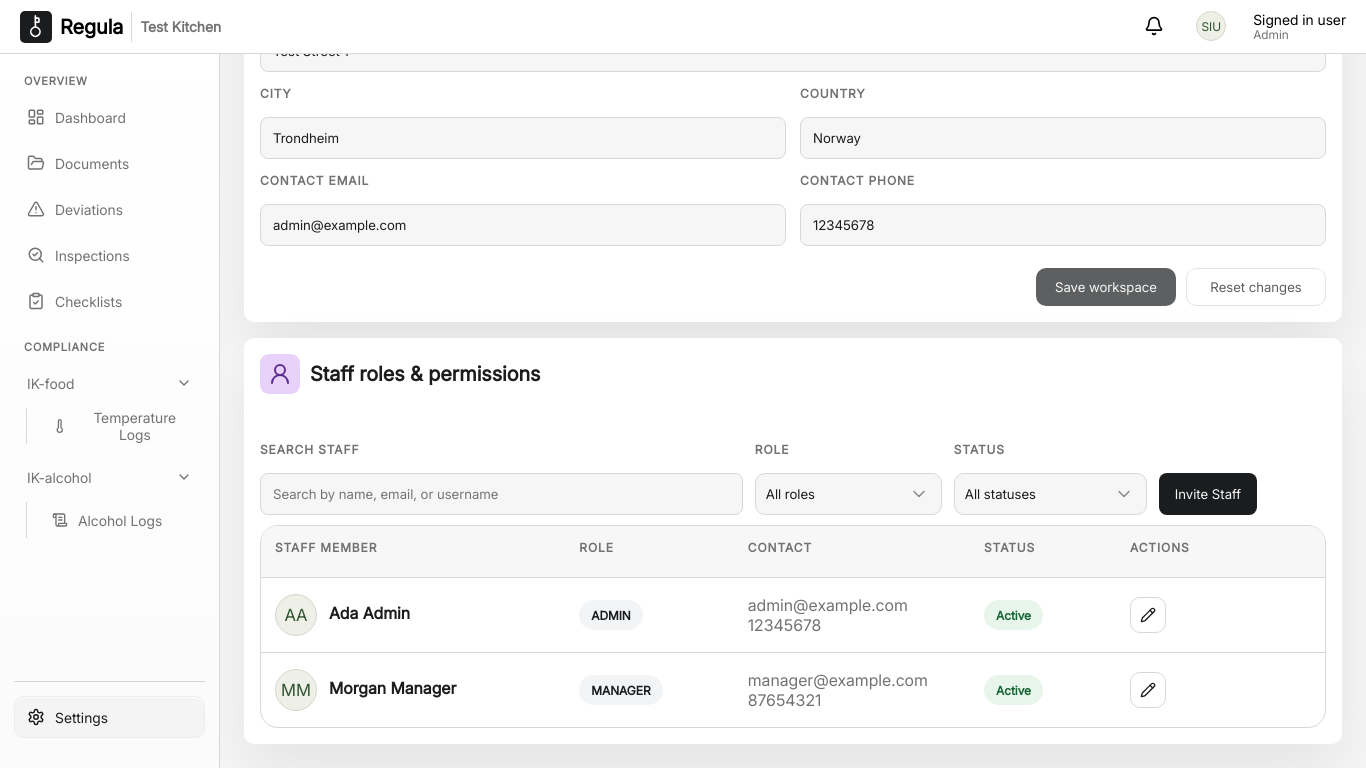
Test: Settings view › filters staff and updates a staff member from the editor
(page scrolled)
Type "Morgan" into the search field labelled "Search staff" at point(502, 494), box [260, 473, 743, 515]
(page scrolled)
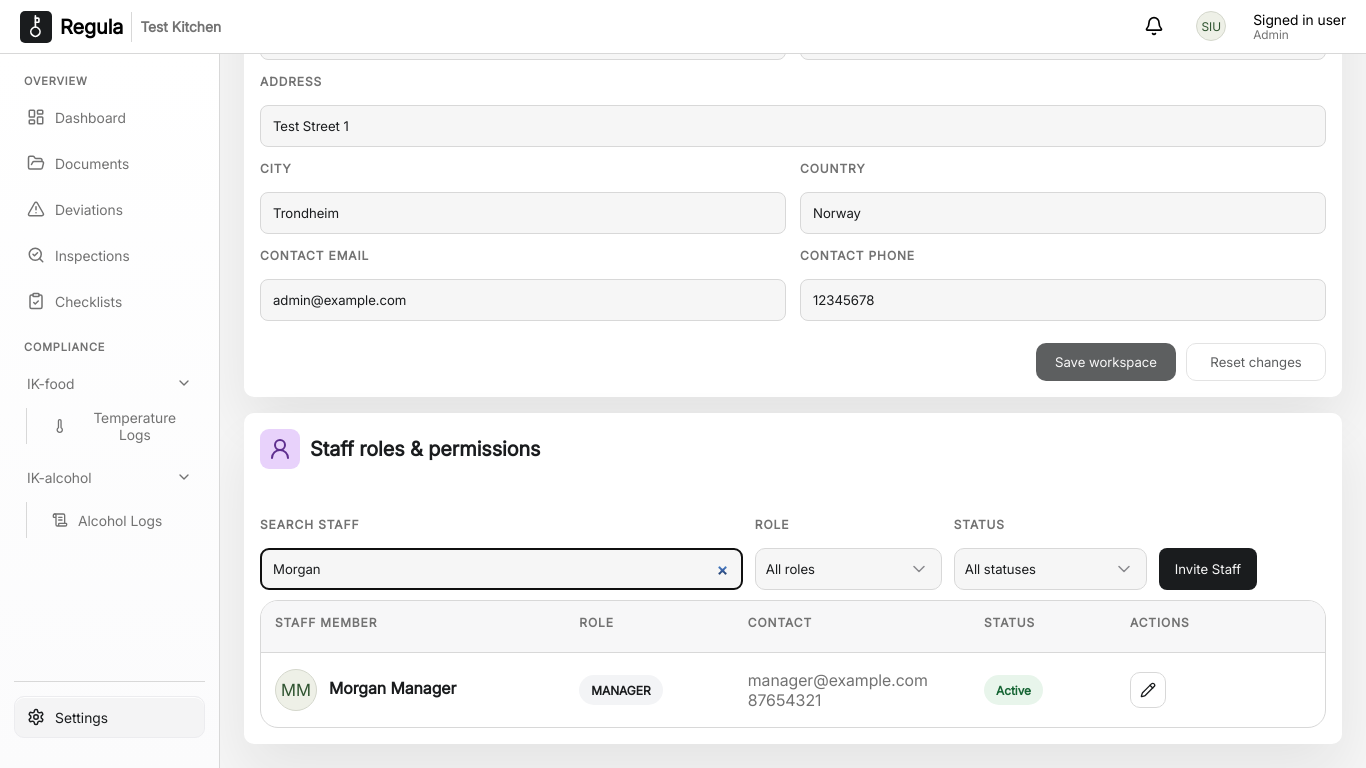
Check: the text "Morgan Manager" is shown, box [329, 678, 456, 698]
Check: the text "Ada Admin" is gone
Select "MANAGER" in the dropdown labelled "Role" at point(849, 569), box [755, 548, 942, 590]
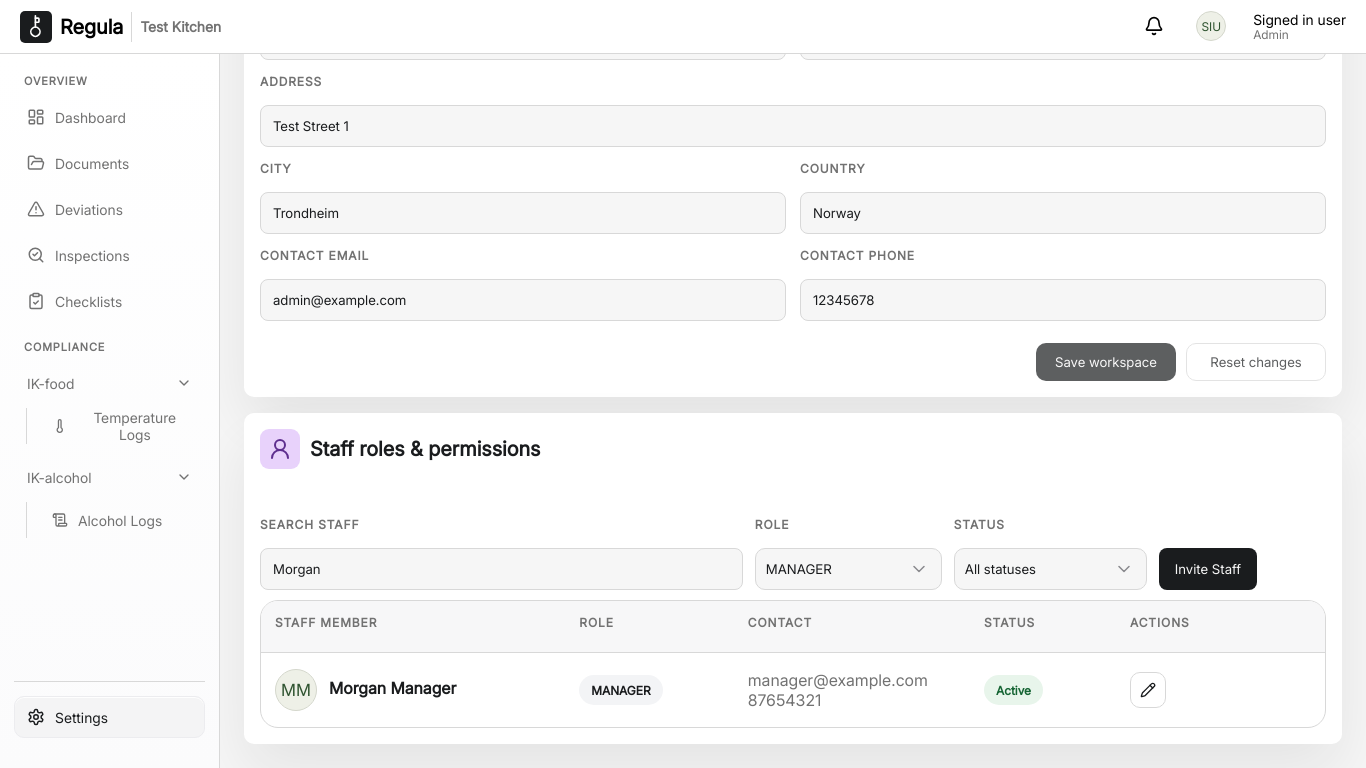
Check: the text "Morgan Manager" is shown, box [329, 678, 456, 698]
Click the button named "Edit staff member" at point(1148, 690), box [1130, 672, 1166, 708]
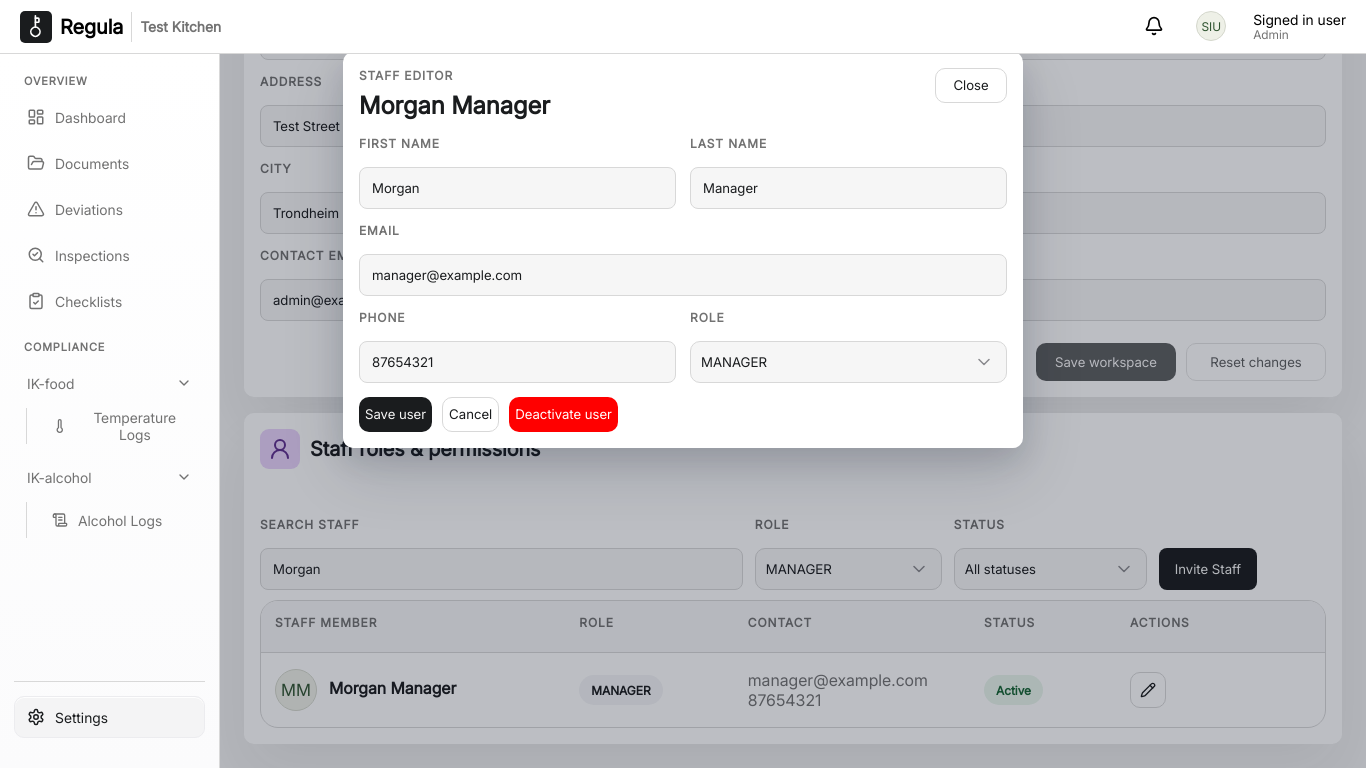
Check: the text "Morgan Manager" is shown, box [359, 91, 550, 120]
Replace the text in the field labelled "Phone" with "99999999" at point(518, 362), box [359, 341, 676, 383]
Select "ADMIN" in the dropdown labelled "Role" at point(849, 362), box [690, 341, 1007, 383]
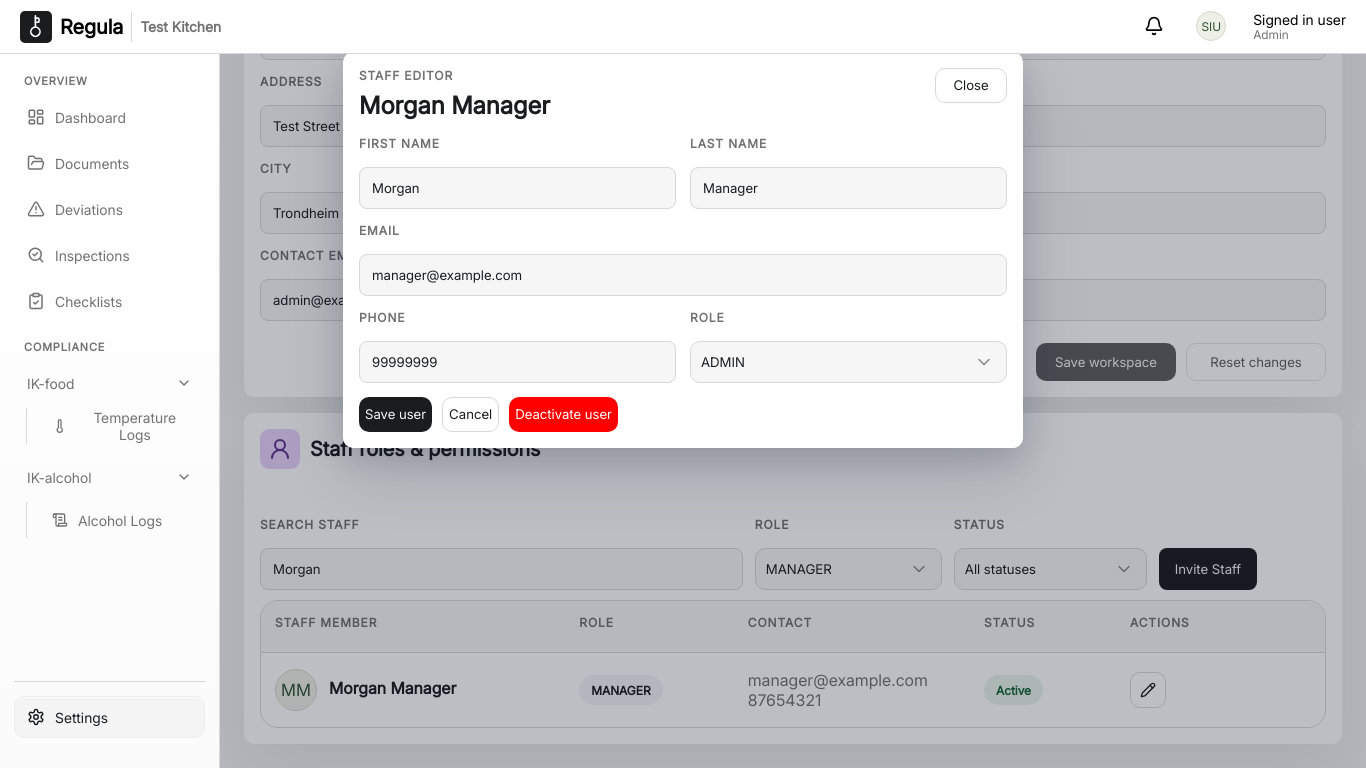
Click the button "Save user" at point(396, 415), box [359, 397, 432, 432]
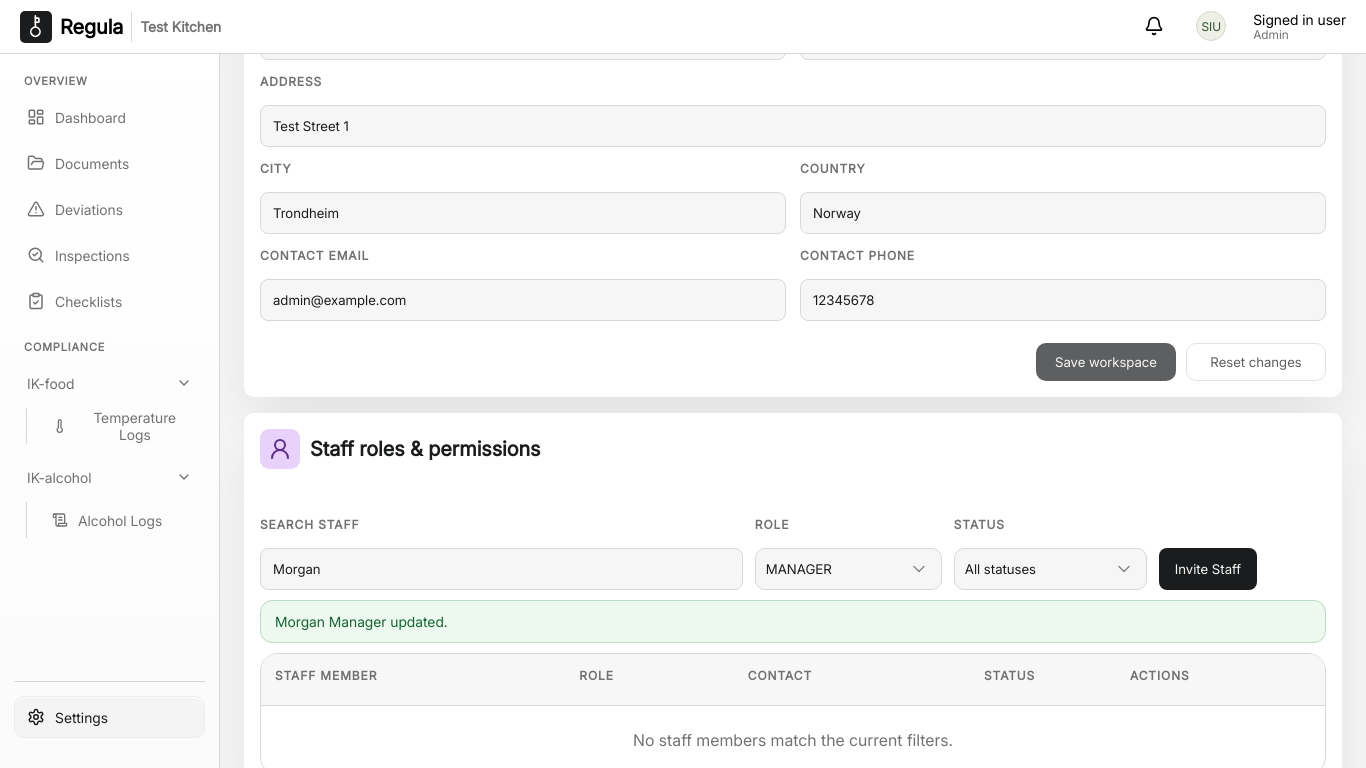
Check: the text "Morgan Manager updated." is shown, box [260, 600, 1326, 643]
Select "All roles" in the dropdown labelled "Role" at point(849, 569), box [755, 548, 942, 590]
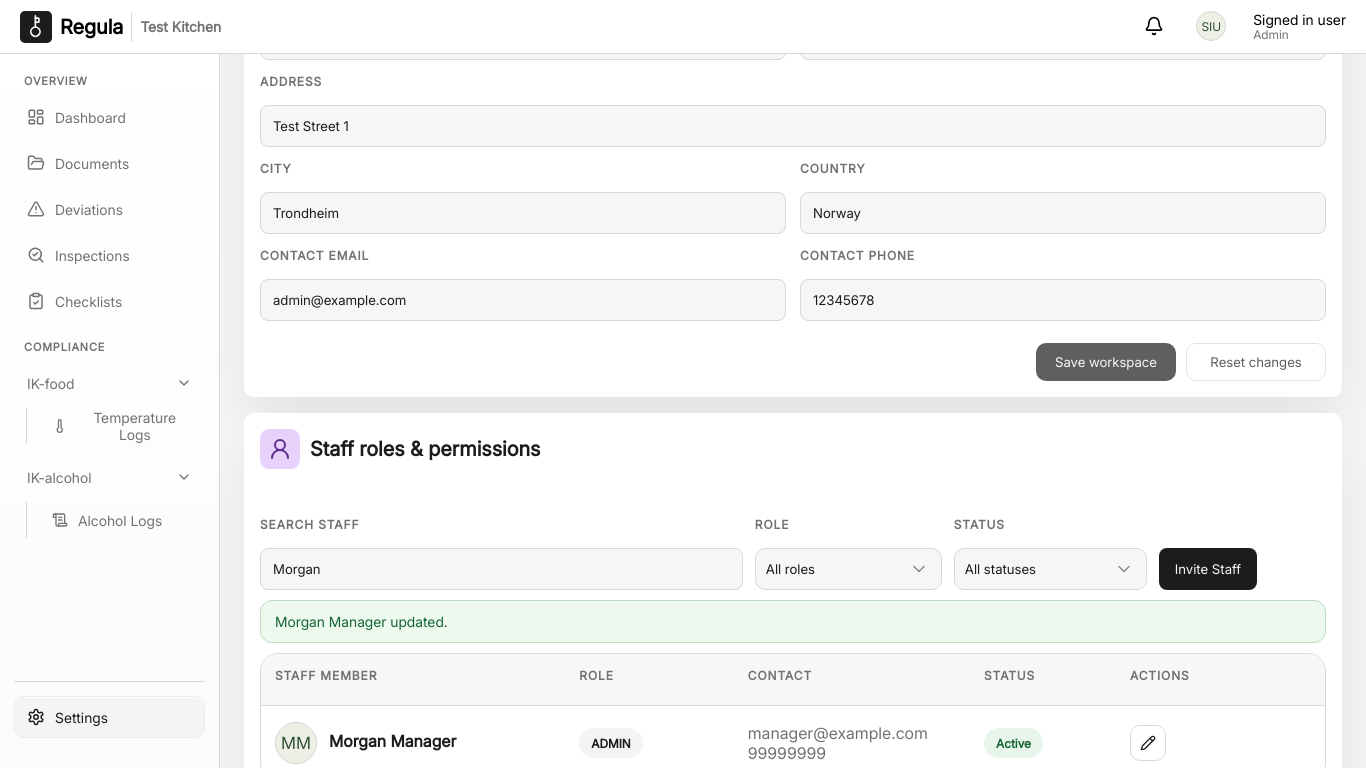
Check: the text "Morgan Manager" reads "ADMIN", box [591, 736, 631, 751]
Check: the text "Morgan Manager" reads "99999999", box [748, 743, 826, 763]
